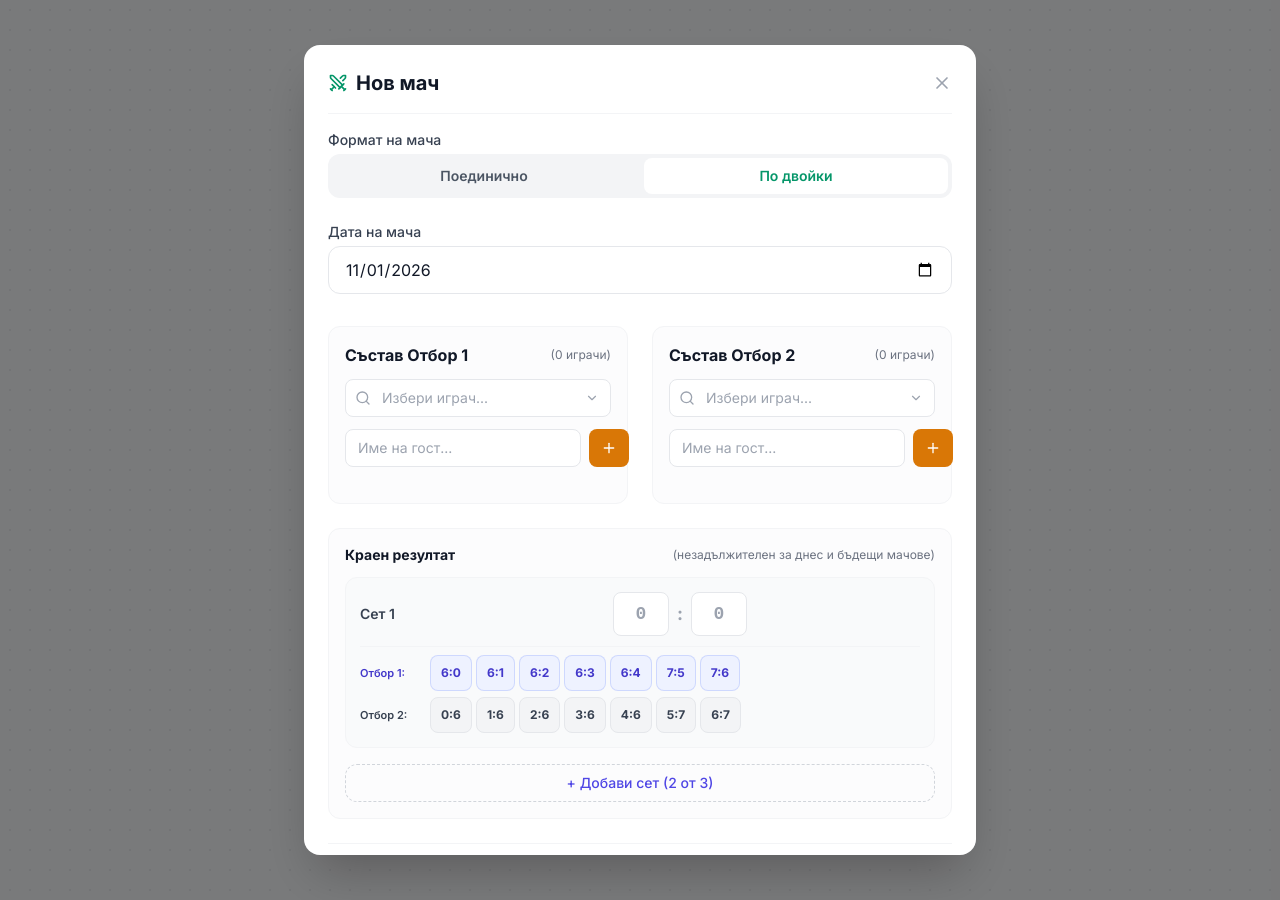
MatchModal Component › Roster Capacity Enforcement & Locking Status Pill › Doubles submit error: rejects when team has fewer than 2 players
Note: Team 1 has 2 players
Click the dropdown named "Избери играч за Отбор 1" at (478, 398), box [345, 379, 611, 417]
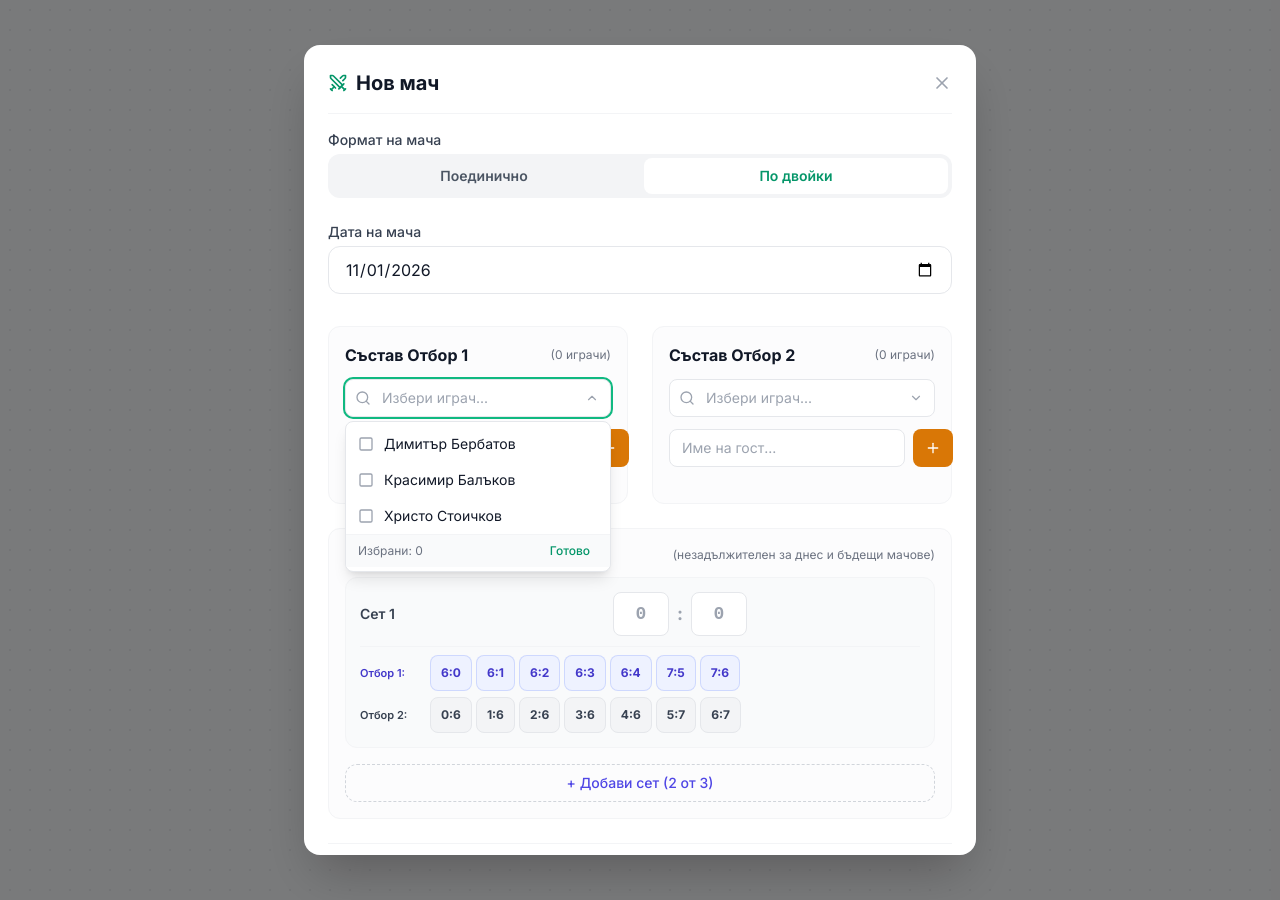
Click the option "Христо Стоичков" at (478, 516), box [346, 498, 610, 534]
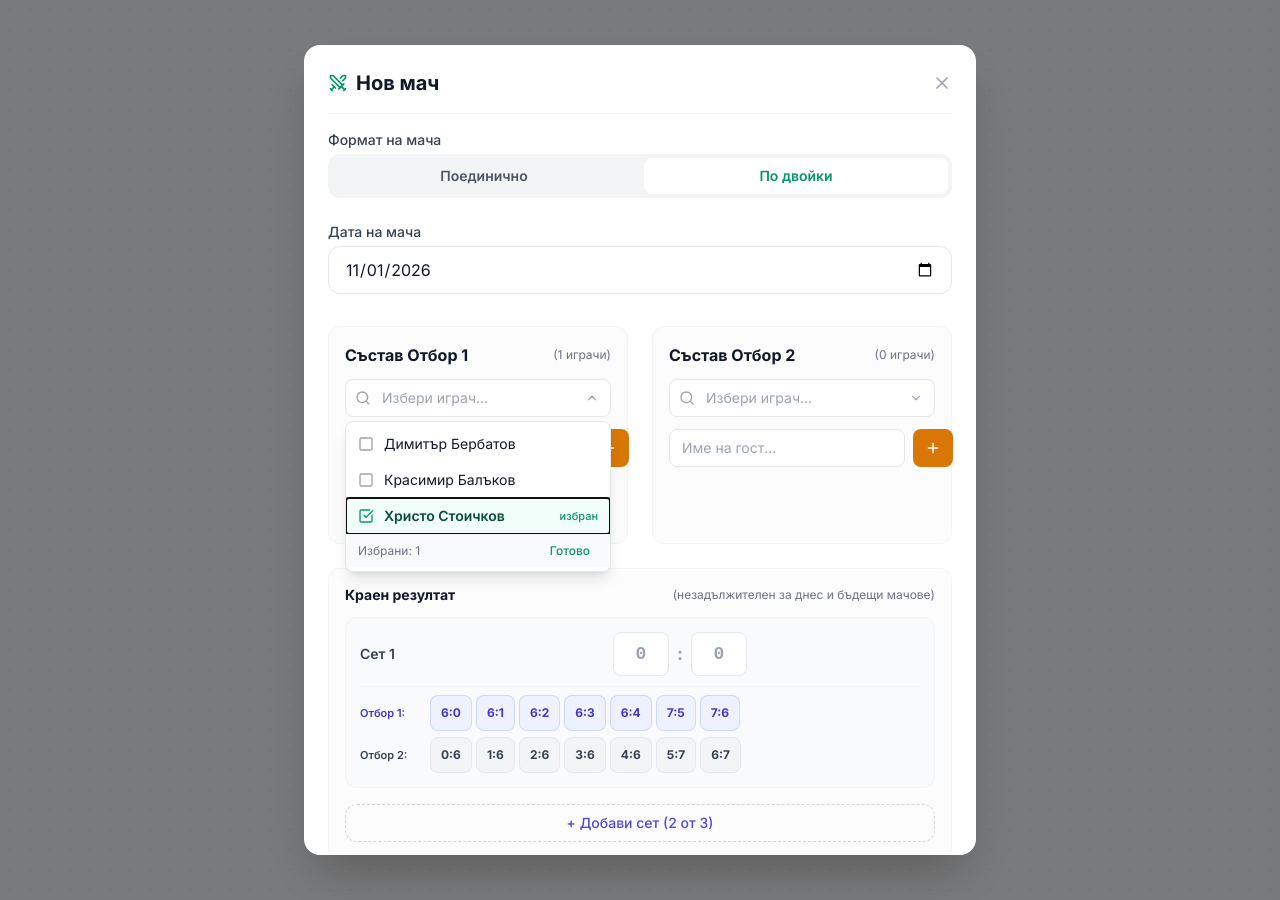
Click the option "Красимир Балъков" at (478, 480), box [346, 462, 610, 498]
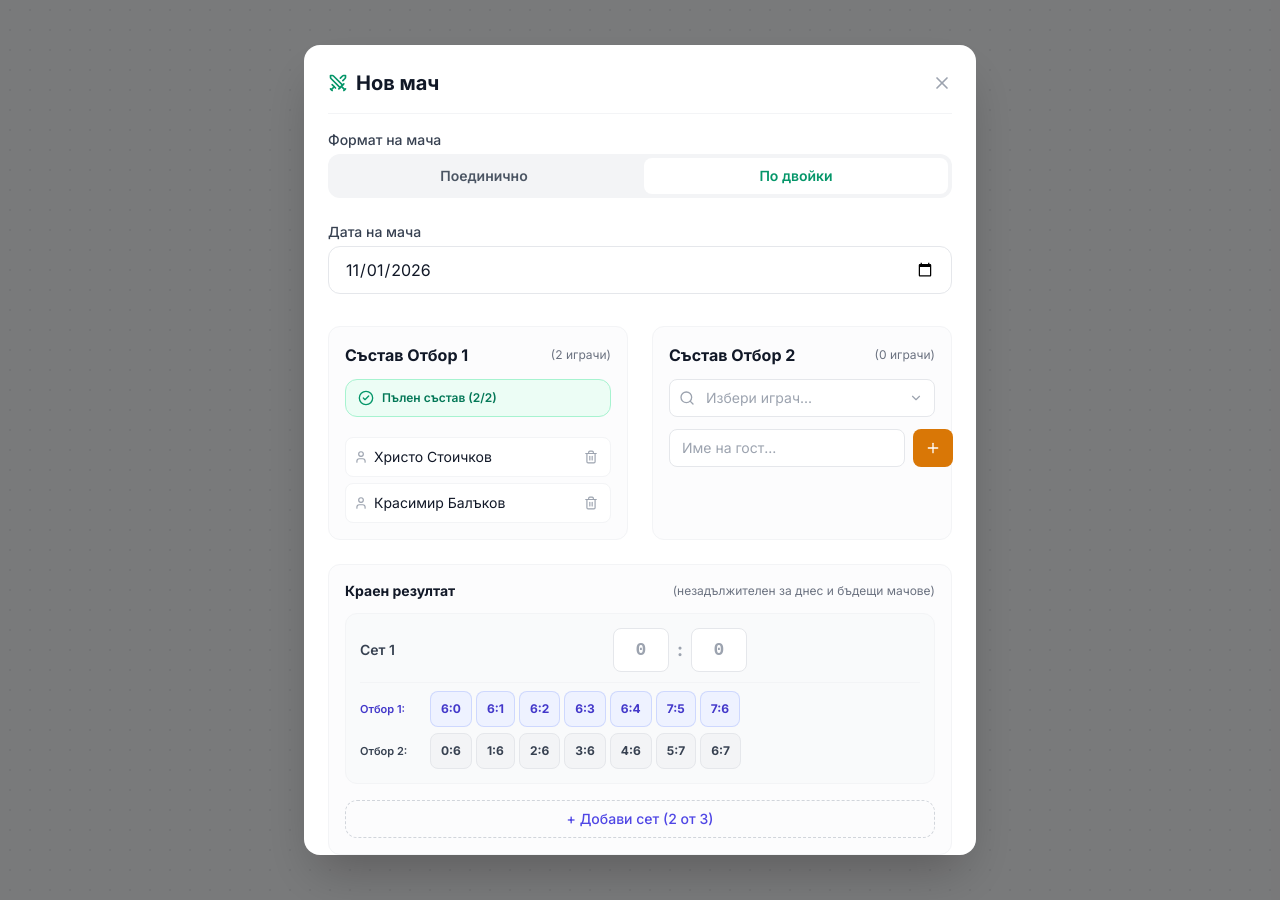
Note: Team 2 has only 1 player
Click the dropdown named "Избери играч за Отбор 2" at (802, 398), box [669, 379, 935, 417]
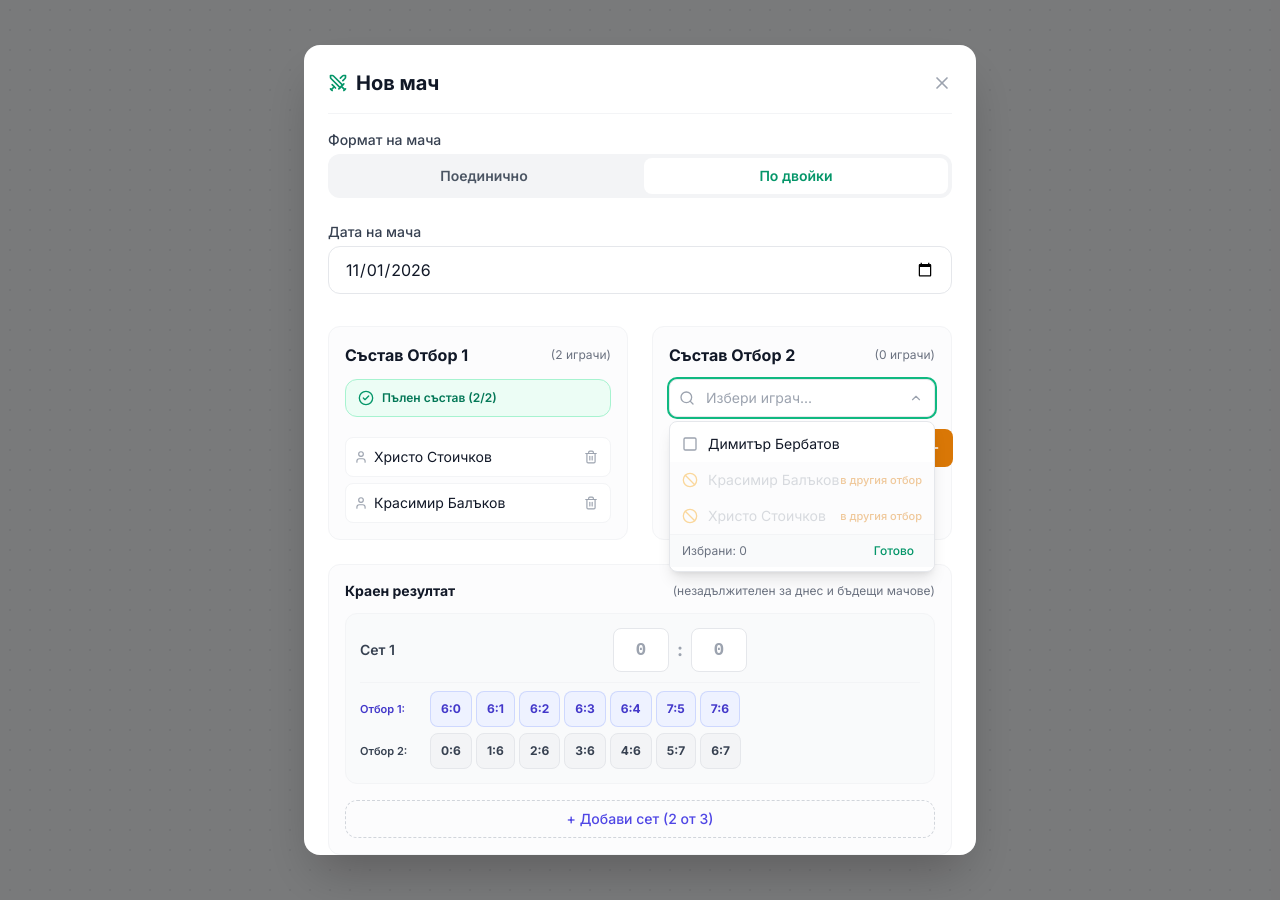
Click the option "Димитър Бербатов" at (802, 444), box [670, 426, 934, 462]
(page scrolled)
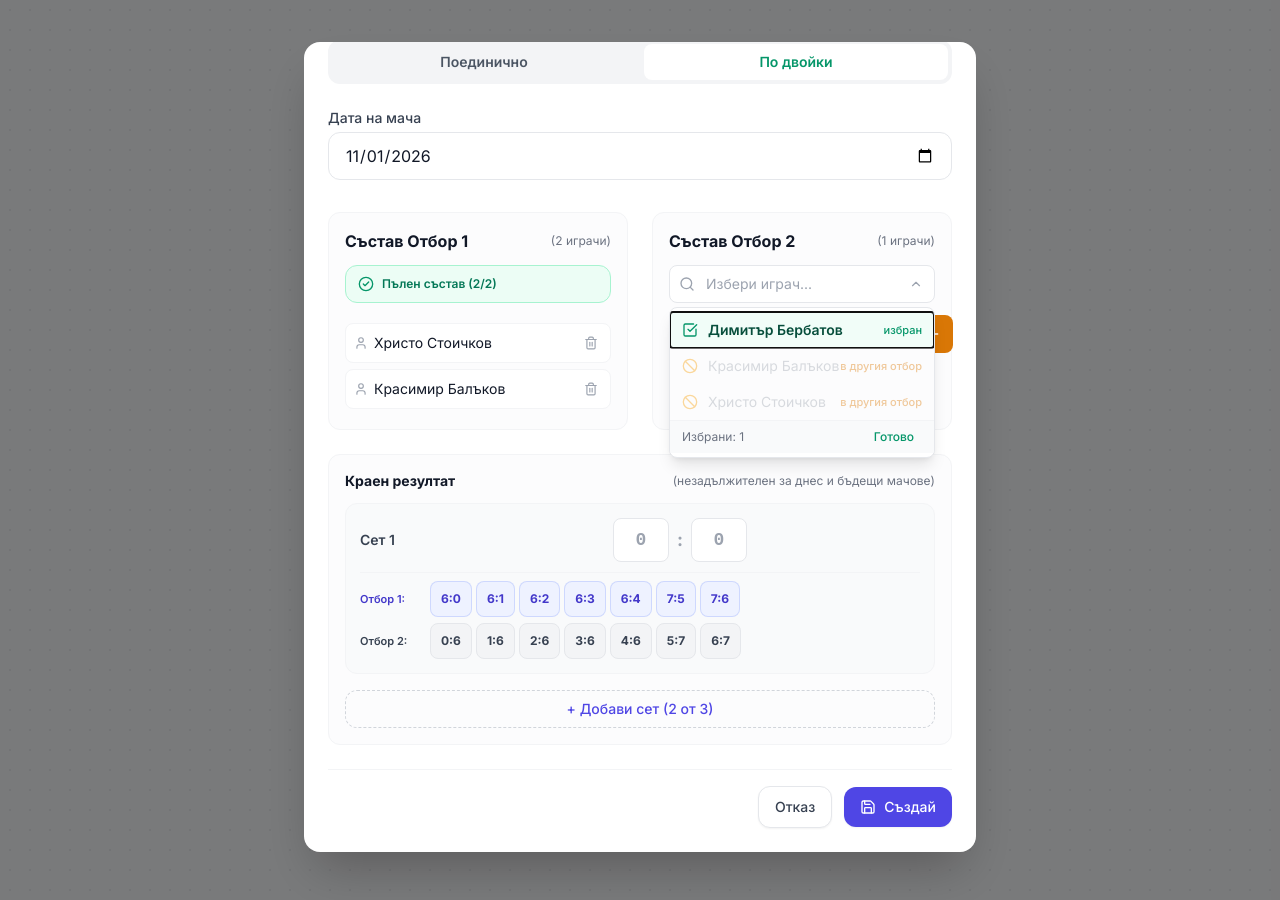
Click the button "Създай" at (898, 807), box [844, 787, 952, 827]
(page scrolled)
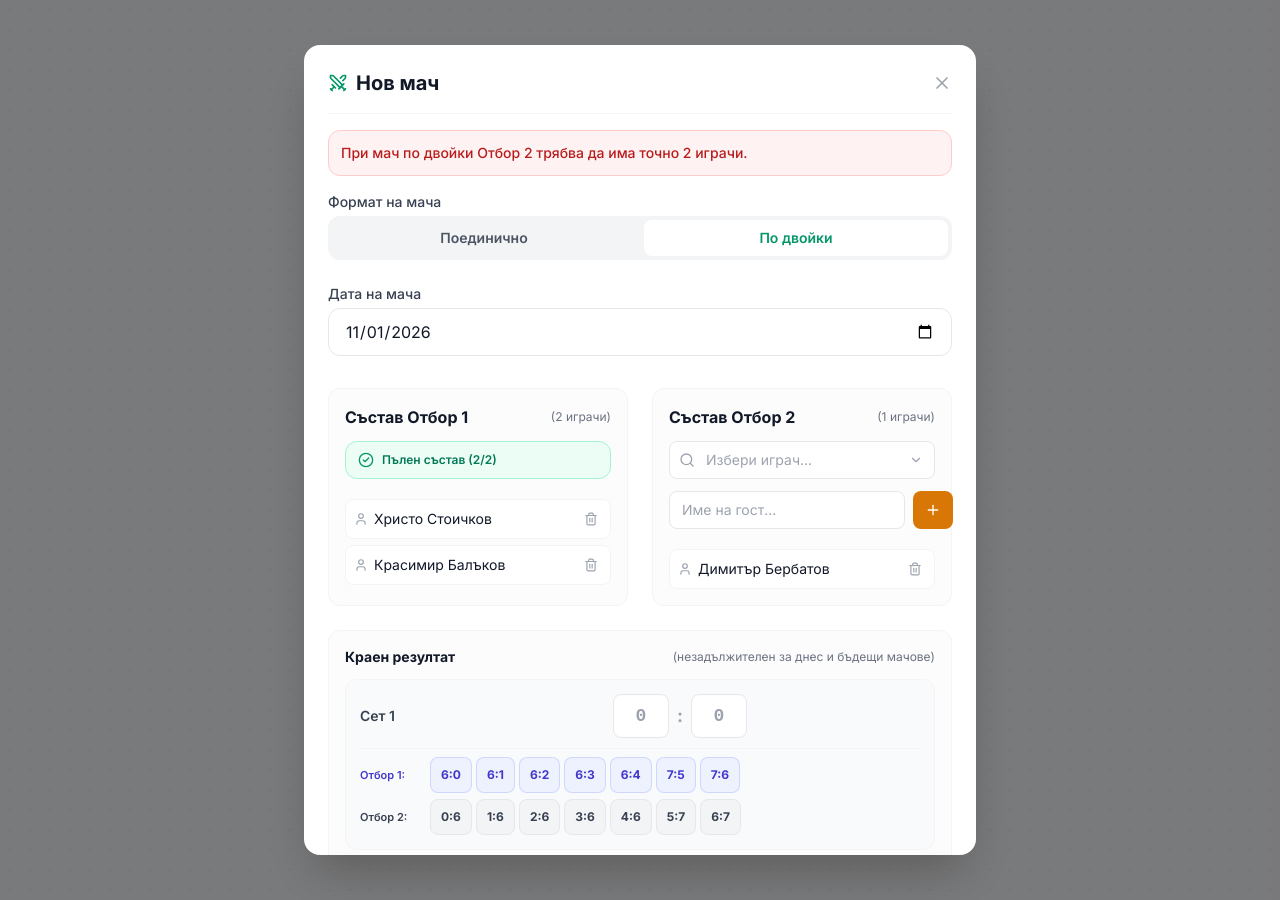
Now the text "При мач по двойки Отбор 2 трябва да има точно 2 играчи." is shown, box [328, 130, 952, 176]
